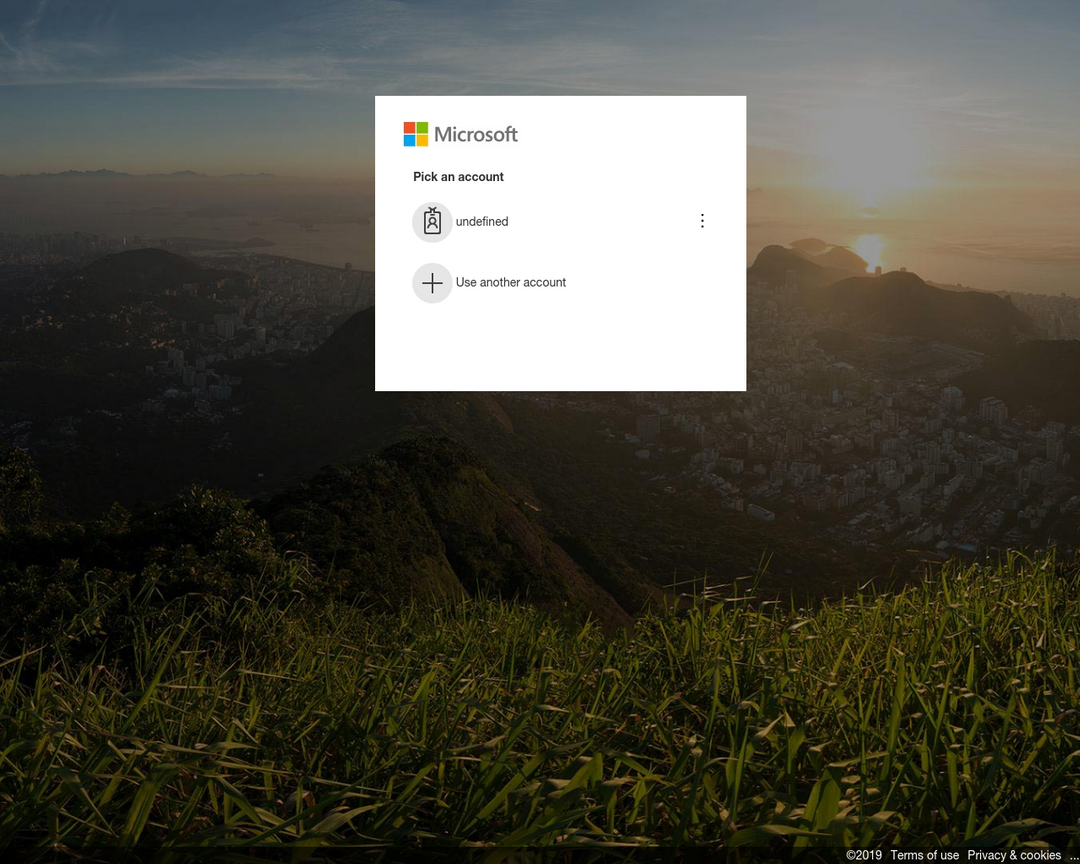Microsoft: (399, 118, 526, 152)
